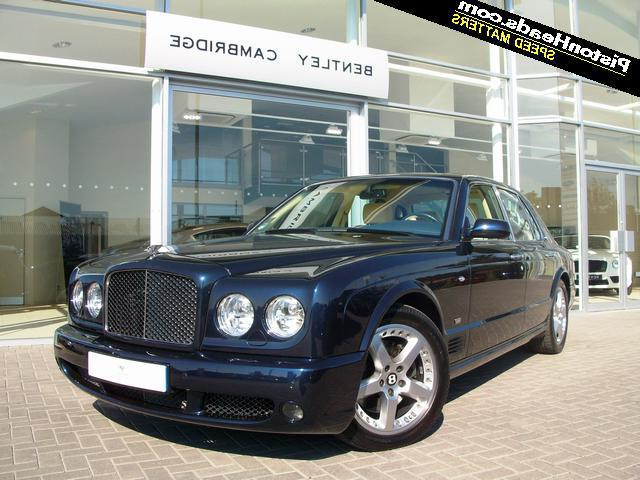Car: (46, 168, 582, 458)
